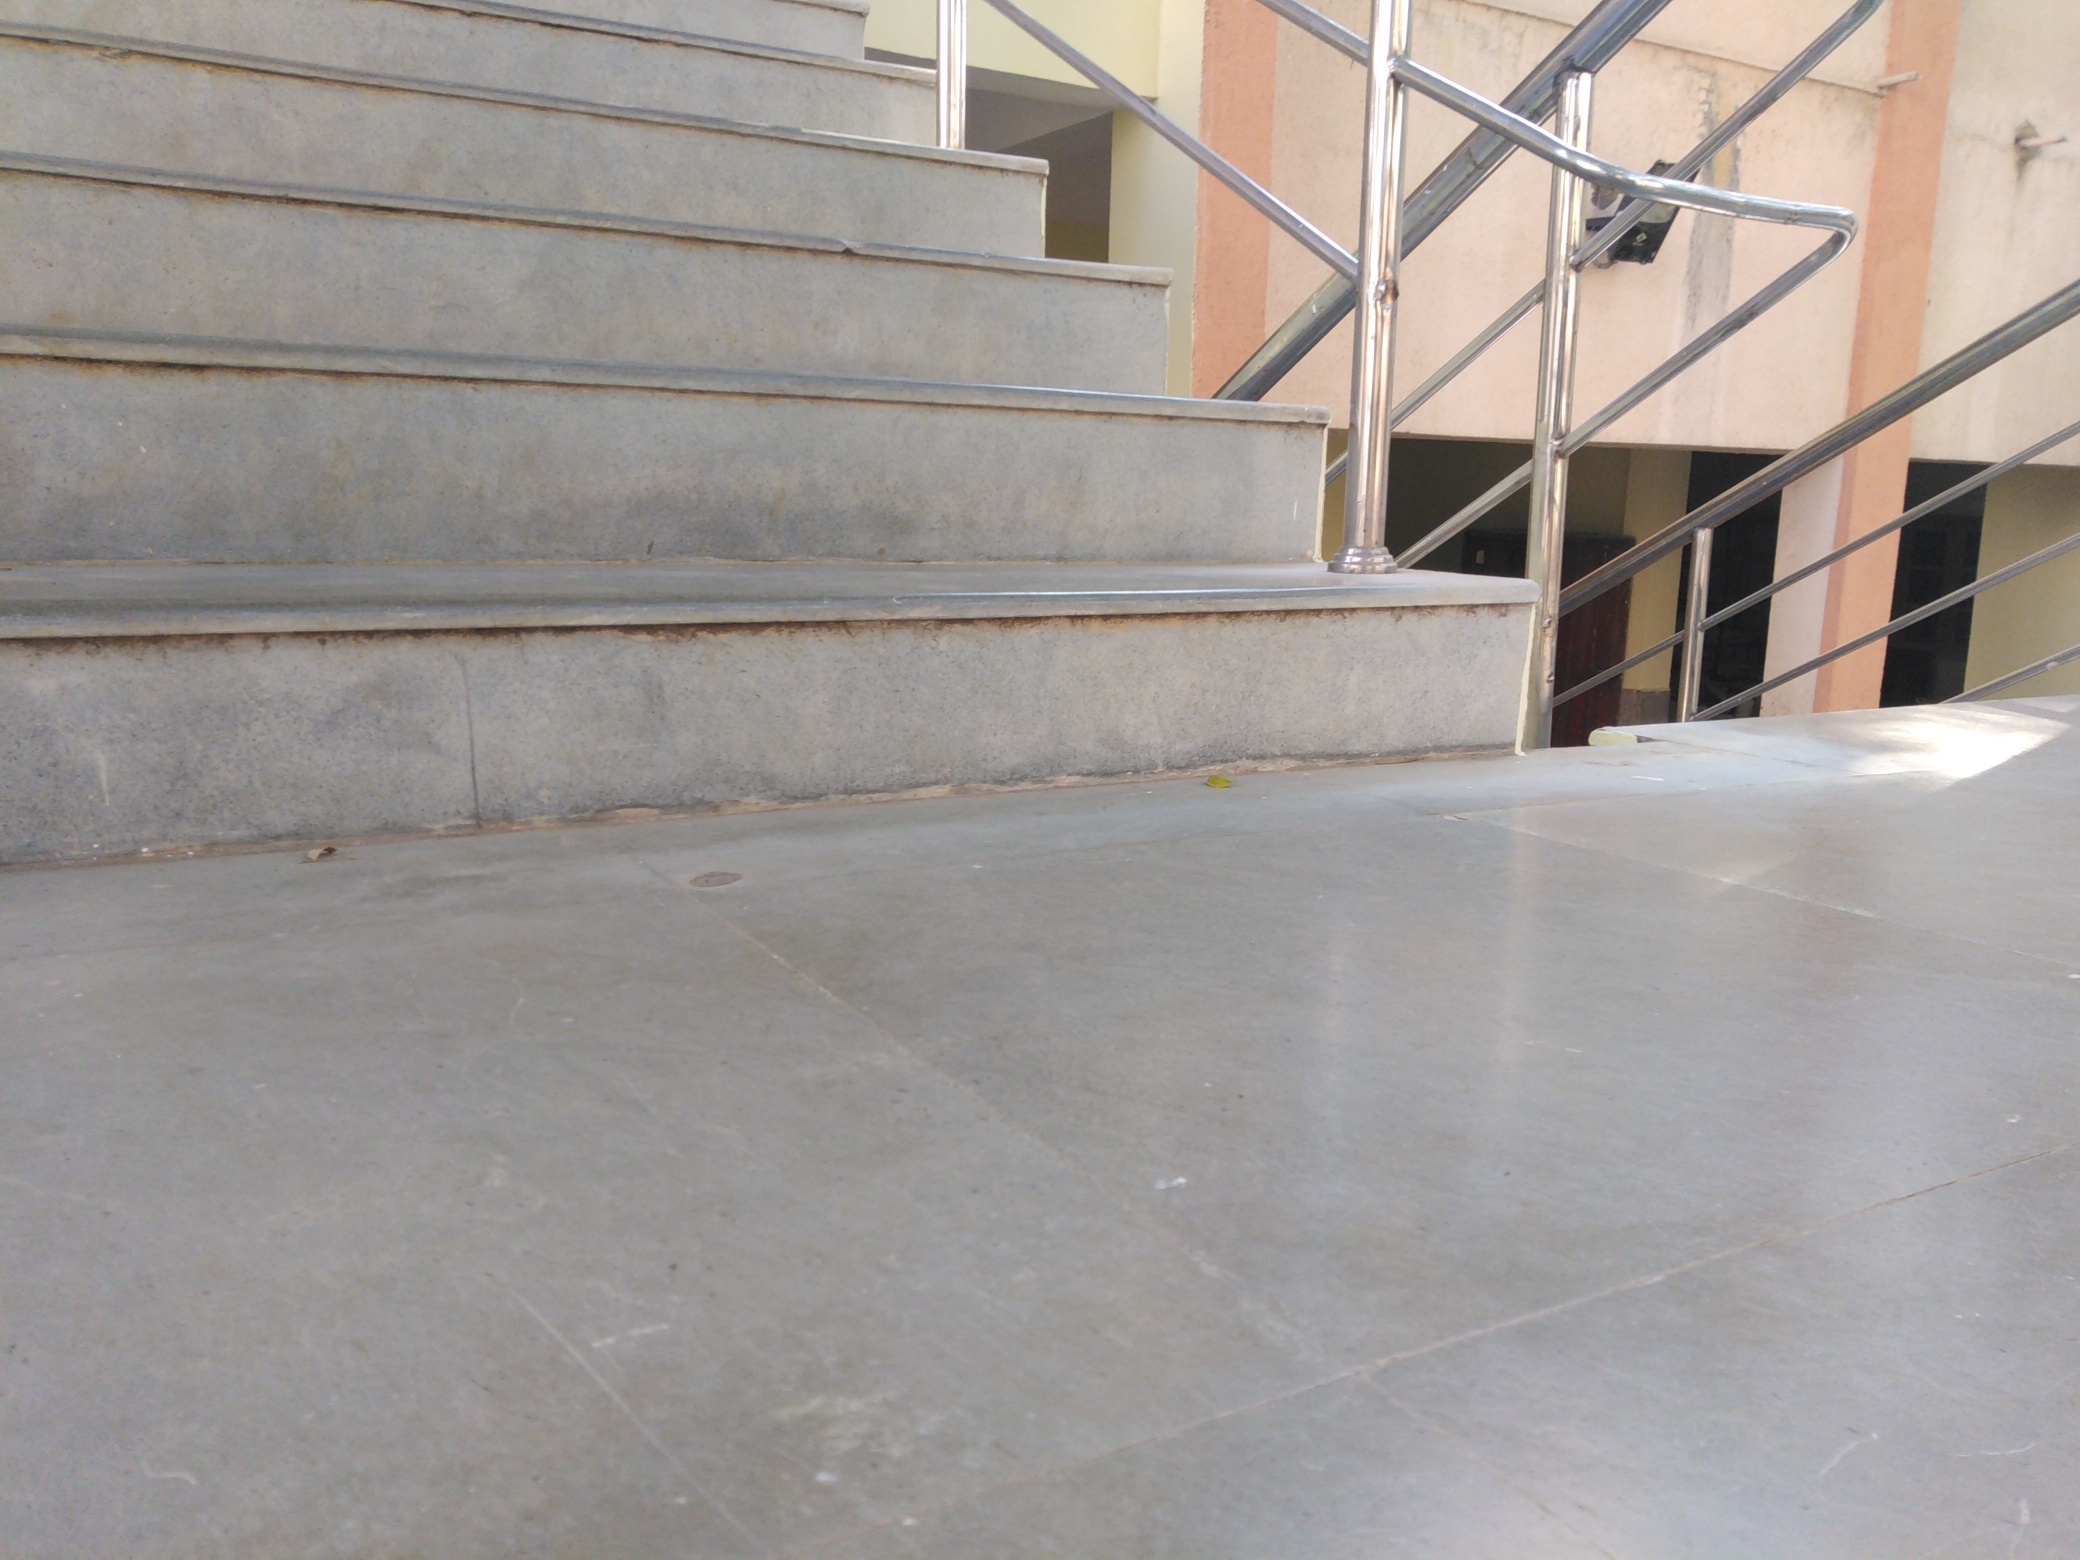stairs_up: (7, 48, 1531, 788)
